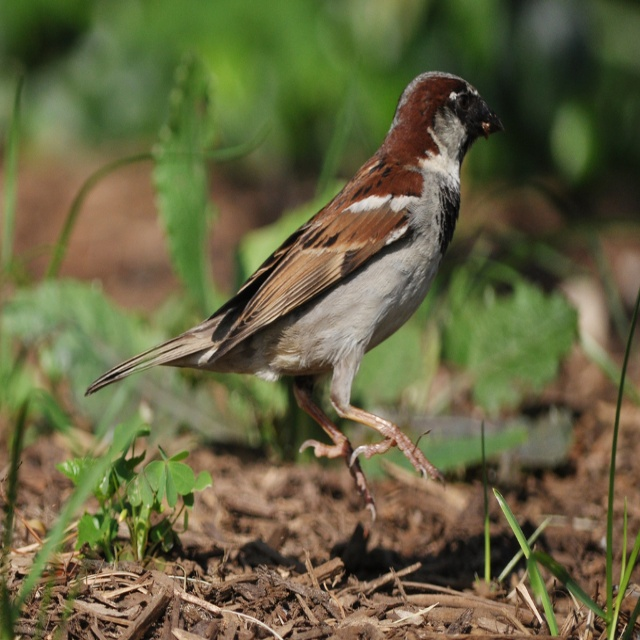Sparrow: (84, 71, 505, 521)
